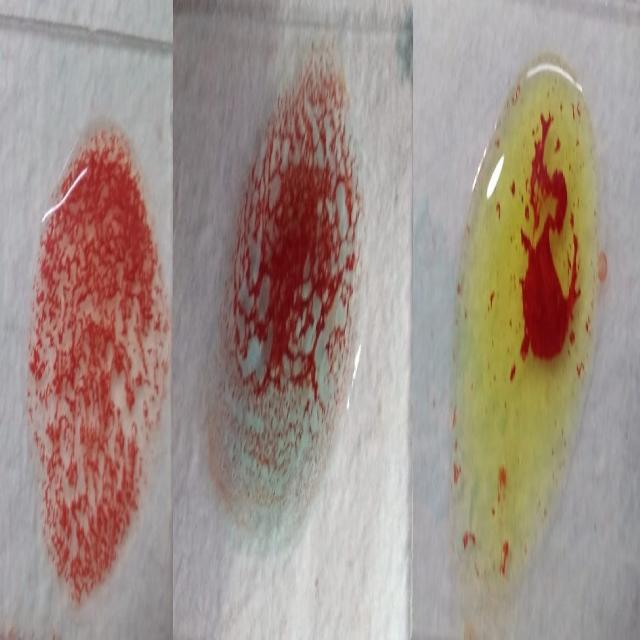A: (208, 53, 362, 531)
B: (453, 63, 593, 589)
D: (34, 123, 158, 592)
